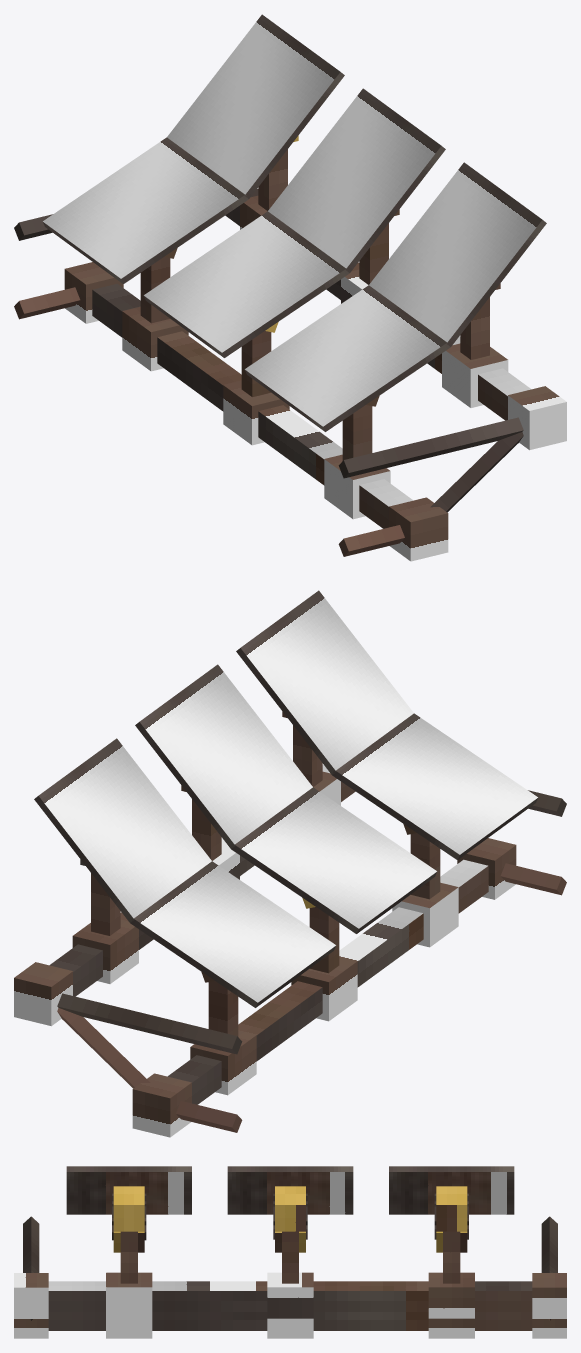
File: solar_mirror.obj
3 views of the same model, one above another, from view 1: azimuth 30°, elevation 25°; view 2: azimuth 150°, elevation 25°; view 3: azimuth 270°, elevation 25° (orthographic). The views are drawn at different scales.
Parts seen in each view (by area): view 1: MirorComponent2 4, MirorComponent3 5, MirorComponent1 5, MirorComponent4 5, MirorComponent5 5, MirorComponent6 5, MirrorSupport, MirorSupport9, MirorSupport4, MirorSupport2, MirorComponent3 1, MirrorSupport1 (+13 smaller); view 2: MirorComponent2 4, MirorComponent3 5, MirorComponent1 5, MirorComponent6 5, MirorComponent4 5, MirorComponent5 5, MirrorSupport, MirorSupport8, MirorSupport5, MirorSupport3, MirorComponent1 1, MirrorSupport1 (+13 smaller); view 3: MirrorSupport1, MirrorSupport, MirorComponent2 4, MirorComponent1 5, MirorComponent3 5, MirorComponent2 1, MirorComponent1 1, MirorComponent3 1, MirorSupport2, MirorSupport3, MirorComponent2 3, MirorComponent5 1 (+16 smaller).
Boxes of the visible parts, box(x1,y1,x2,y2) form: MirorComponent2 4: box(268, 88, 445, 272); MirorComponent3 5: box(369, 162, 546, 346); MirorComponent1 5: box(167, 14, 344, 198); MirorComponent4 5: box(42, 137, 248, 283); MirorComponent5 5: box(143, 211, 349, 357); MirorComponent6 5: box(244, 285, 450, 431); MirrorSupport: box(92, 283, 413, 528); MirorSupport9: box(338, 417, 523, 478); MirorSupport4: box(389, 497, 448, 561); MirorSupport2: box(508, 386, 566, 450); MirorComponent3 1: box(442, 343, 508, 407); MirrorSupport1: box(225, 188, 531, 420); MirorComponent2 4: box(135, 664, 312, 848); MirorComponent3 5: box(236, 590, 413, 774); MirorComponent1 5: box(34, 738, 211, 922); MirorComponent6 5: box(332, 713, 538, 859); MirorComponent4 5: box(130, 861, 336, 1007); MirorComponent5 5: box(231, 787, 437, 933); MirrorSupport: box(167, 859, 488, 1104); MirorSupport8: box(57, 993, 242, 1054); MirorSupport5: box(132, 1073, 191, 1137); MirorSupport3: box(14, 962, 72, 1026); MirorComponent1 1: box(72, 919, 138, 983); MirrorSupport1: box(49, 764, 355, 996); MirrorSupport1: box(48, 1281, 532, 1311); MirrorSupport: box(48, 1312, 532, 1330); MirorComponent2 4: box(227, 1166, 353, 1214); MirorComponent1 5: box(389, 1166, 514, 1214); MirorComponent3 5: box(66, 1166, 191, 1214); MirorComponent2 1: box(267, 1272, 313, 1318); MirorComponent1 1: box(428, 1272, 474, 1318); MirorComponent3 1: box(106, 1272, 152, 1318); MirorSupport2: box(14, 1273, 48, 1318); MirorSupport3: box(532, 1273, 566, 1318); MirorComponent2 3: box(275, 1186, 305, 1231); MirorComponent5 1: box(267, 1318, 313, 1338).
Bounding box in the file's own units: 1.13 × 1.33 × 3.
